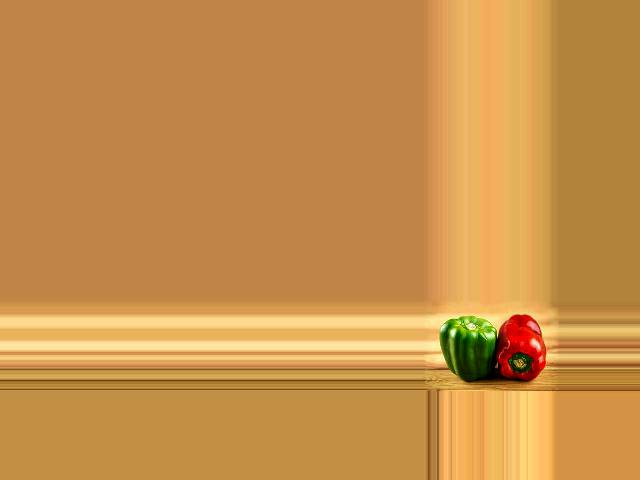bell_pepper: (493, 314, 547, 380)
